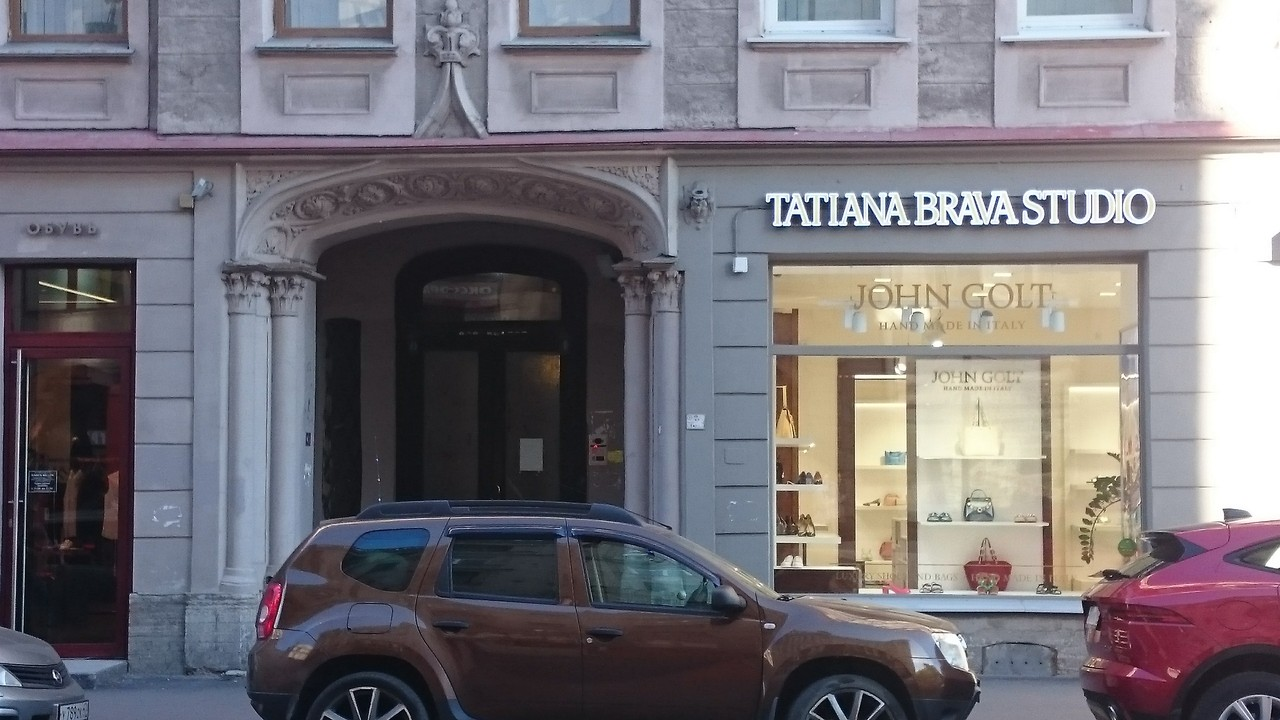door: (4, 342, 126, 657)
signboard: (764, 192, 1156, 225)
window: (771, 259, 1145, 591)
